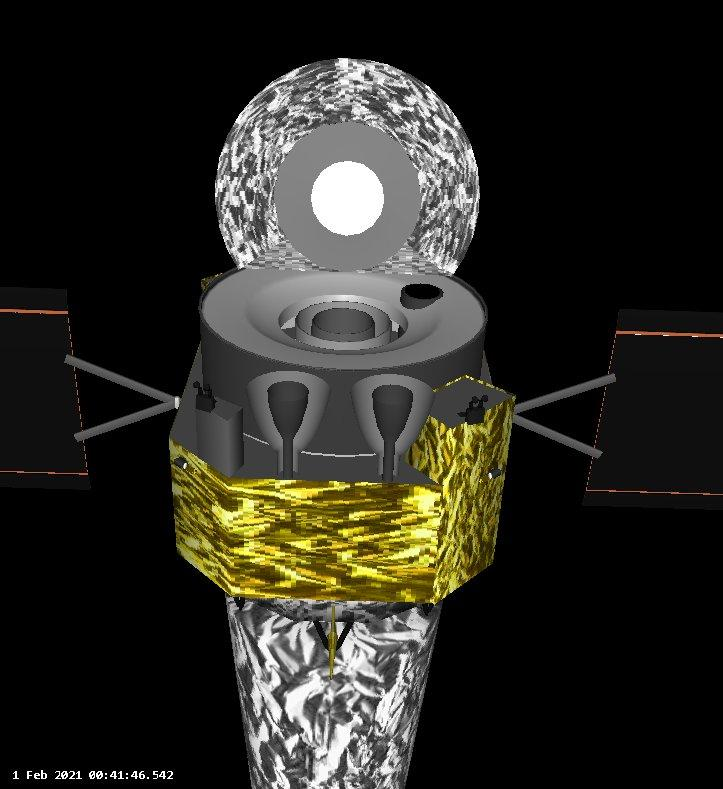antenna: (215, 54, 481, 276), (321, 599, 340, 698)
body: (166, 334, 523, 789)
solar: (576, 308, 723, 511), (0, 284, 95, 495)
thruster: (346, 373, 436, 481), (247, 368, 333, 478), (192, 381, 204, 397), (468, 395, 480, 410), (203, 382, 214, 397), (478, 394, 489, 409)
